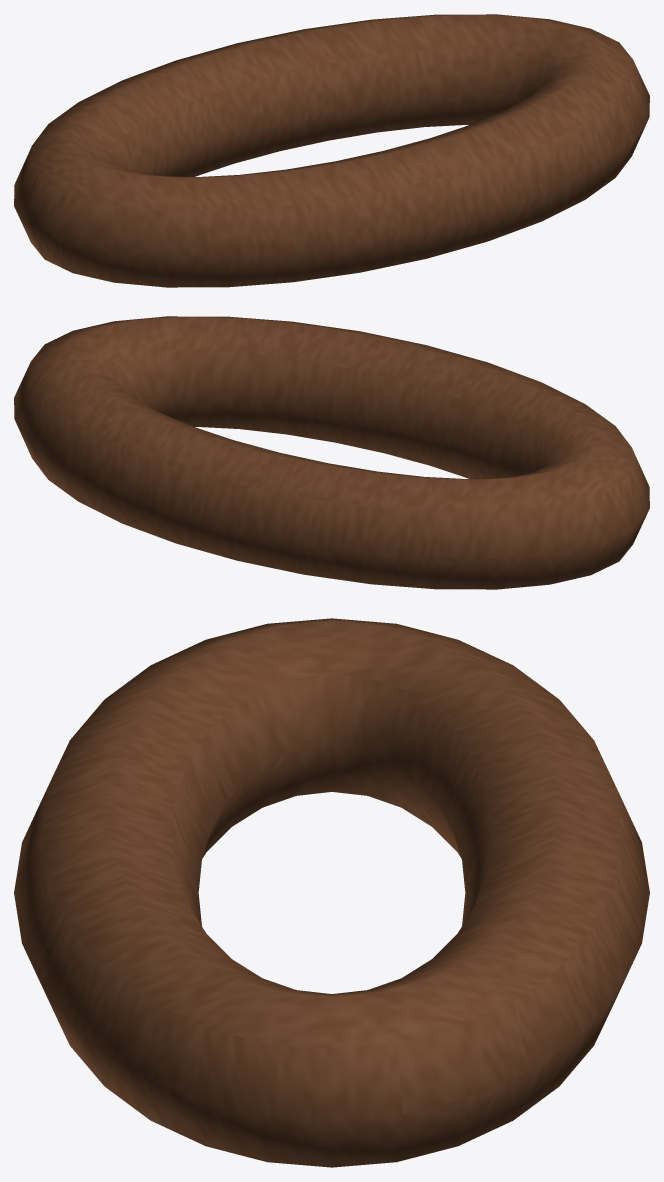
File: ChainLink.fbx
3 renders of one model, top to bottom at view 1: azimuth 30°, elevation 25°; view 2: azimuth 150°, elevation 25°; view 3: azimuth 270°, elevation 25°, orthographic. The views are drawn at different scales.
Parts seen in each view (by area): view 1: ChainLink; view 2: ChainLink; view 3: ChainLink.
Part boxes in pixels (x1=…): ChainLink: x1=14, y1=14, x2=649, y2=287; ChainLink: x1=14, y1=316, x2=649, y2=589; ChainLink: x1=14, y1=618, x2=649, y2=1167.
Bounding box in the file's own units: 43.96 × 7.56 × 26.04.
1 material, 1 textured.
